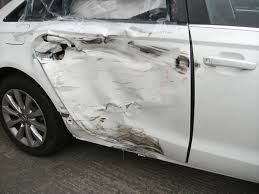Broken-glass: (21, 1, 173, 25)
Dent: (29, 29, 190, 157)
